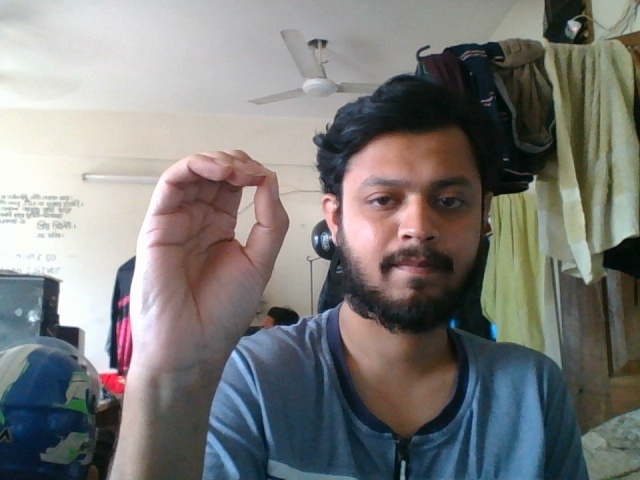oo: (112, 145, 292, 367)
